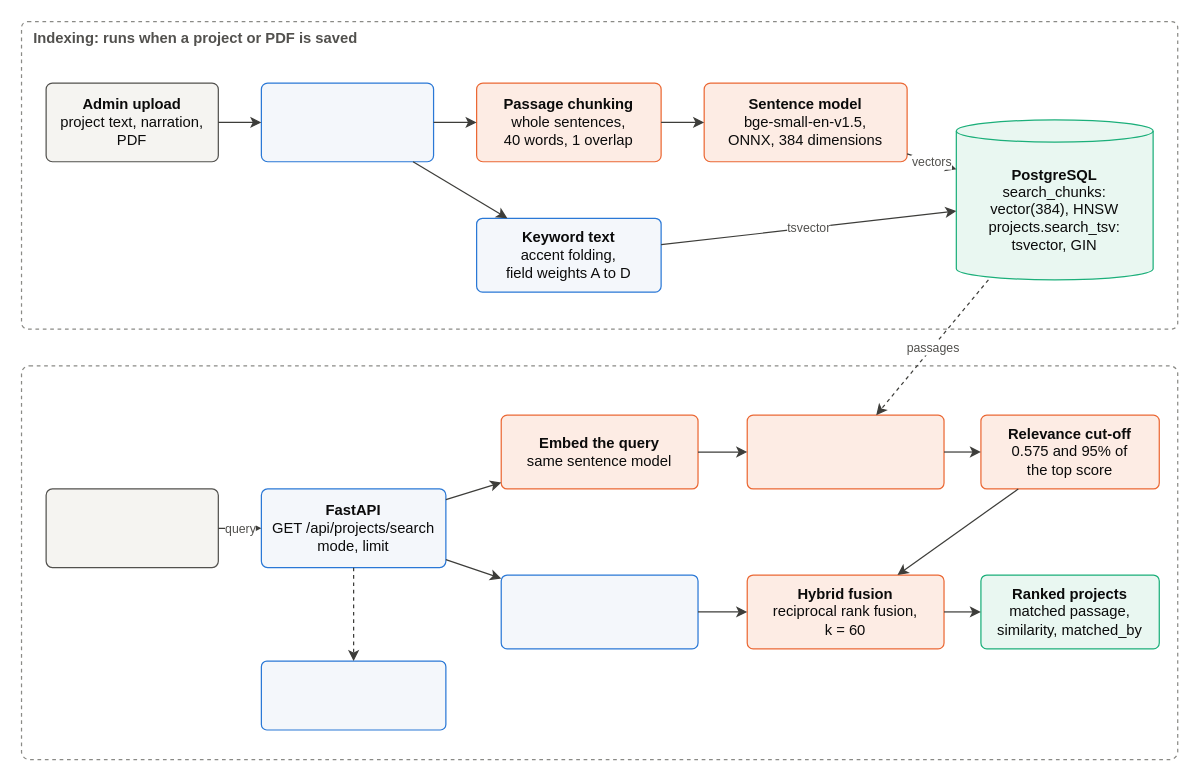
Image size: 1199x781. Some labels were removed from this diagram. Here are the shapes that lost their labels. From the top down, the box of each, then its label:
(260, 82, 434, 162): Text extraction pypdf, per page
(746, 414, 944, 489): Vector search pgvector, cosine, best passage per project
(45, 488, 218, 568): 3D globe site search box: Keywords / By meaning
(20, 365, 1178, 760): Query: runs on every search
(500, 574, 698, 649): Keyword search to_tsquery, stems and prefixes, ts_rank_cd
(260, 660, 446, 730): Fallback model unavailable: keyword results only
